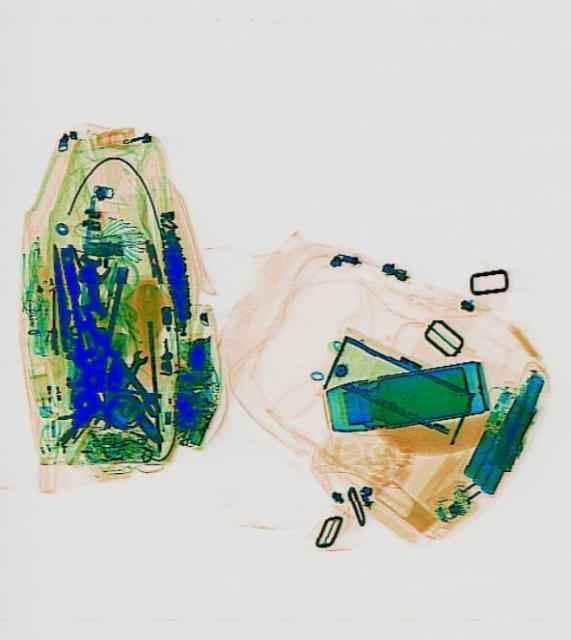Wrench: (62, 298, 168, 420), (111, 347, 149, 395)
